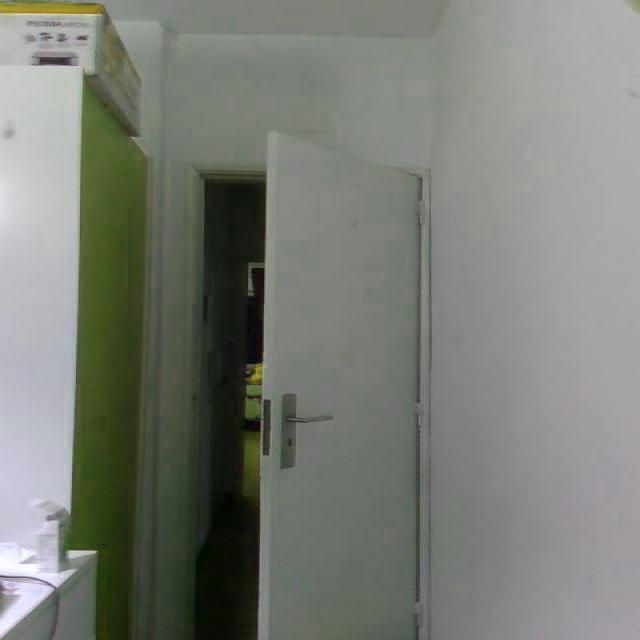Door: (257, 129, 423, 638)
